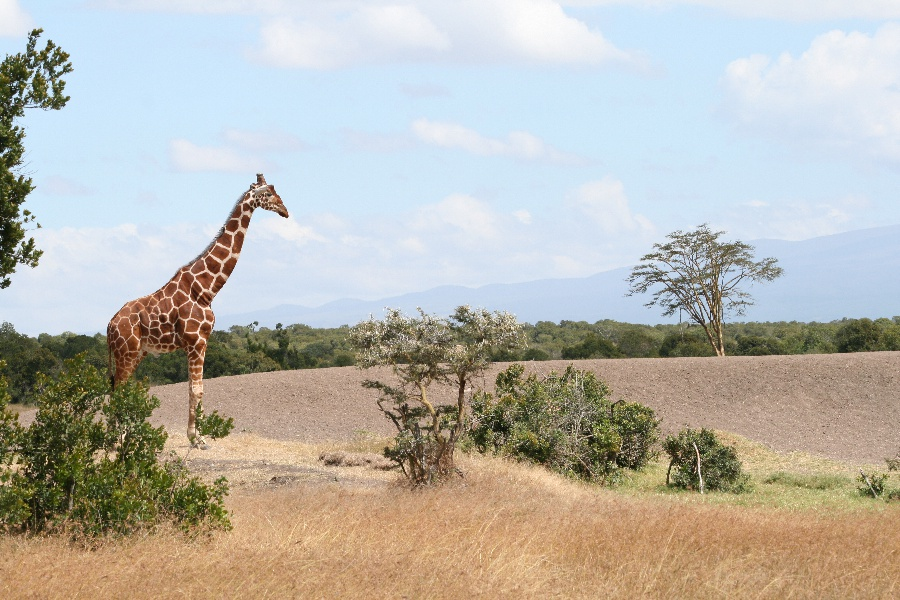giraffe: (100, 167, 293, 455)
